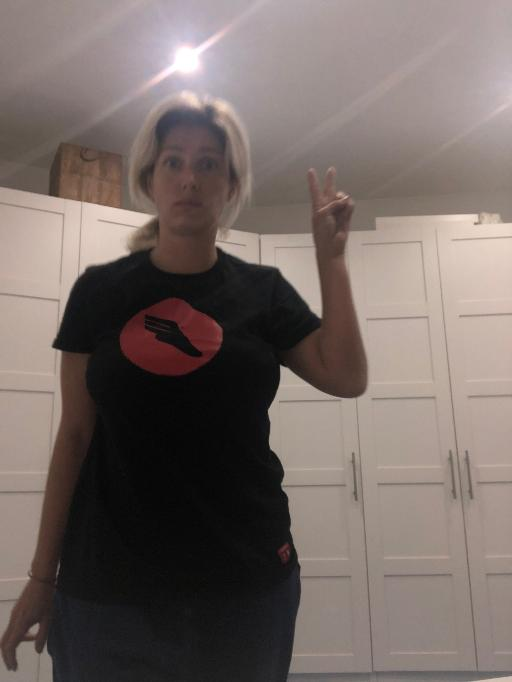no_gesture: (0, 576, 54, 671)
peace: (306, 165, 355, 255)
